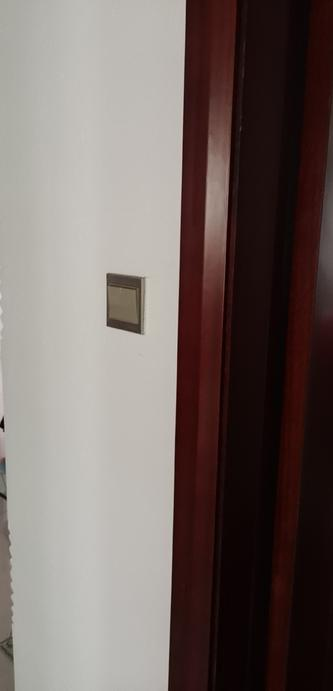switch: (105, 279, 141, 331)
